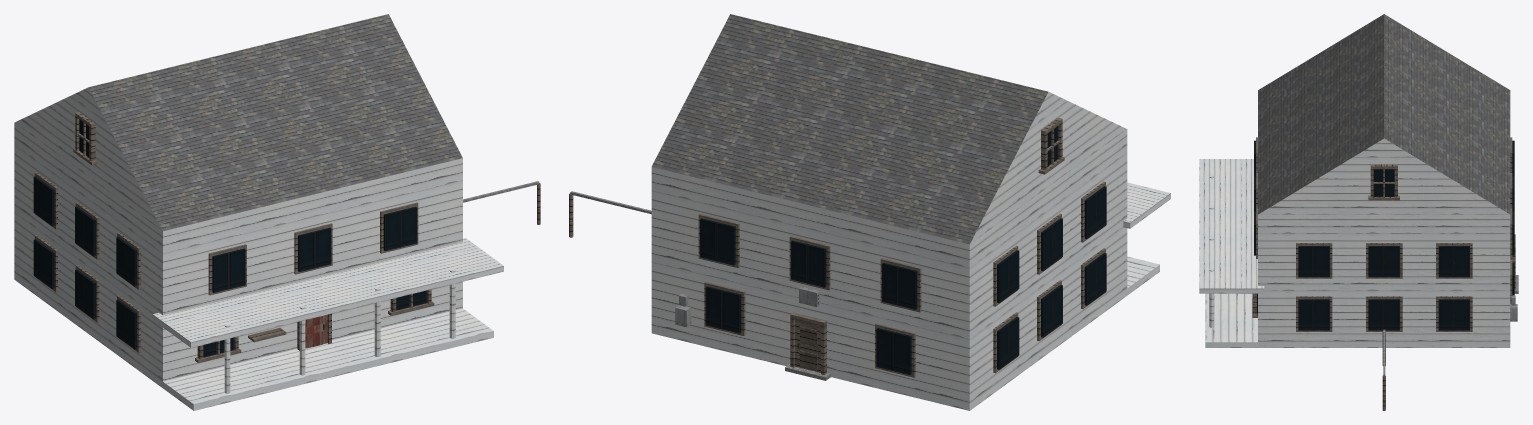
The model's file is farmhouse_lod0.gltf.
3 renders of one model, left to right at view 1: azimuth 30°, elevation 25°; view 2: azimuth 150°, elevation 25°; view 3: azimuth 270°, elevation 25°, orthographic. The views are drawn at different scales.
Parts seen in each view (by area): view 1: farmhouse_roof, farmhouse_walls, farmhouse_porch, farmhouse_fen_07-glass-curtain-blue_5_t, farmhouse_gable_ends, farmhouse_fen_18-timber-siding_0; view 2: farmhouse_walls, farmhouse_roof, farmhouse_fen_07-glass-curtain-blue_5_t, farmhouse_fen_18-timber-siding_0, farmhouse_gable_ends, farmhouse_porch, farmhouse_fen_14-steel-panel_7, farmhouse_fen_18-timber-siding_6_t; view 3: farmhouse_roof, farmhouse_walls, farmhouse_porch, farmhouse_gable_ends, farmhouse_fen_07-glass-curtain-blue_5_t, farmhouse_fen_18-timber-siding_0.
Part boxes in pixels (box(x1,y1,x2,y2)): farmhouse_roof: box(89, 14, 462, 230); farmhouse_walls: box(14, 123, 462, 387); farmhouse_porch: box(152, 238, 503, 410); farmhouse_fen_07-glass-curtain-blue_5_t: box(33, 119, 427, 357); farmhouse_gable_ends: box(14, 87, 162, 230); farmhouse_fen_18-timber-siding_0: box(34, 112, 434, 362); farmhouse_walls: box(651, 129, 1127, 410); farmhouse_roof: box(651, 14, 1047, 244); farmhouse_fen_07-glass-curtain-blue_5_t: box(700, 126, 1106, 374); farmhouse_fen_18-timber-siding_0: box(698, 118, 1105, 377); farmhouse_gable_ends: box(970, 91, 1126, 243); farmhouse_porch: box(1123, 182, 1170, 295); farmhouse_fen_14-steel-panel_7: box(675, 286, 819, 327); farmhouse_fen_18-timber-siding_6_t: box(800, 326, 817, 370); farmhouse_roof: box(1258, 14, 1510, 214); farmhouse_walls: box(1258, 214, 1510, 347); farmhouse_porch: box(1199, 159, 1264, 347); farmhouse_gable_ends: box(1258, 138, 1509, 214); farmhouse_fen_07-glass-curtain-blue_5_t: box(1254, 140, 1514, 330); farmhouse_fen_18-timber-siding_0: box(1252, 137, 1515, 331).
Bounding box in the file's own units: 21.38 × 11.02 × 15.2.
